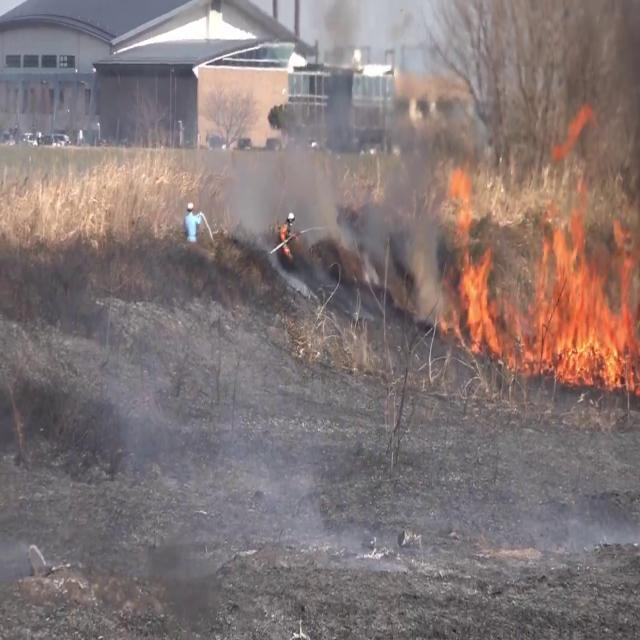Fire: (521, 176, 640, 398), (438, 160, 502, 358)
Smoke: (225, 76, 352, 256)
